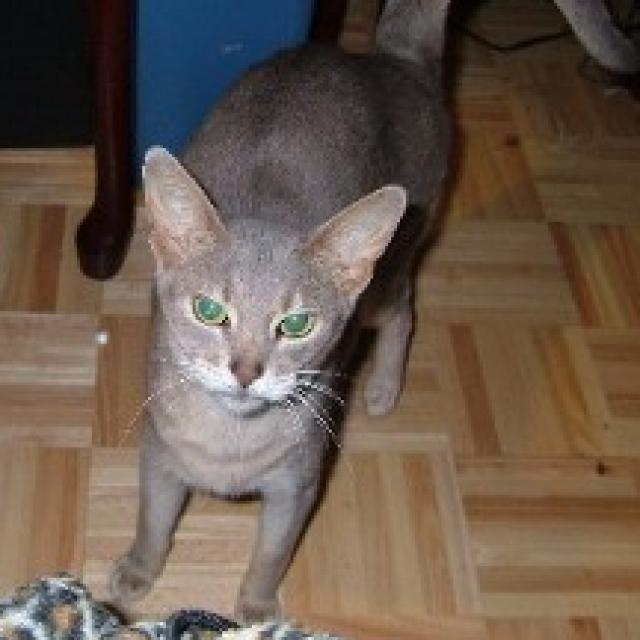Abyssinian: (98, 0, 640, 634)
